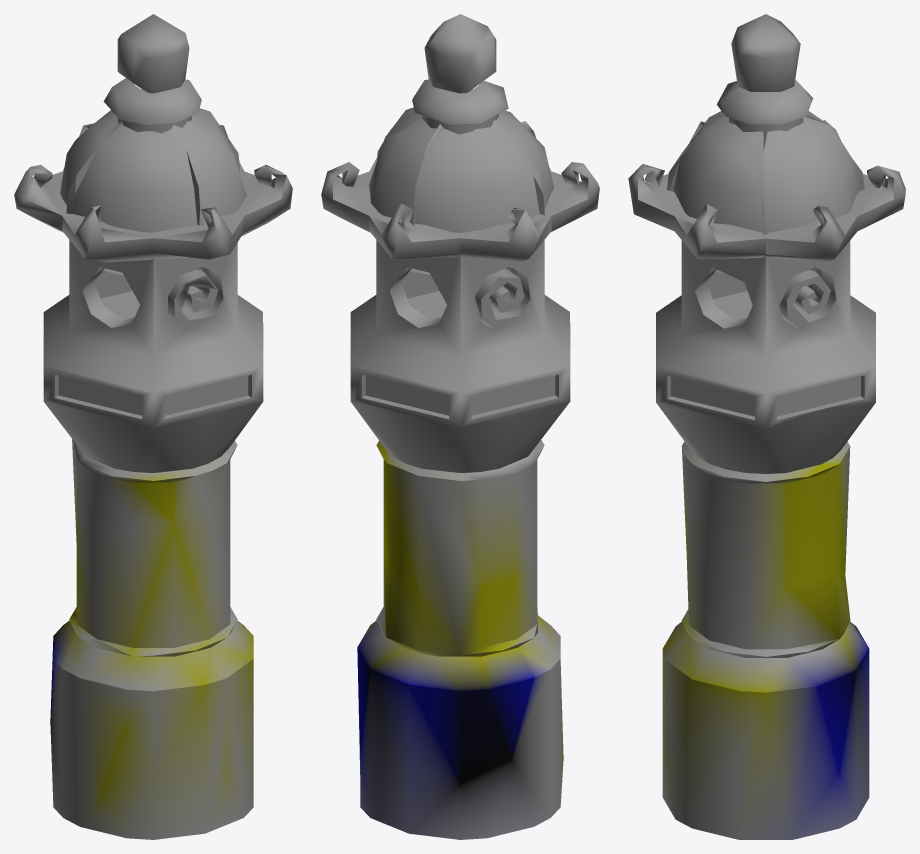
Rendered from SM_ENV_LKNVLD_GardenLantern_A_Lod3.gltf.
3 views of the same model, side by side, from view 1: azimuth 30°, elevation 25°; view 2: azimuth 150°, elevation 25°; view 3: azimuth 270°, elevation 25° (orthographic).
Visible parts, largest first — view 1: SM_ENV_LKNVLD_GardenLantern_A_Lod3; view 2: SM_ENV_LKNVLD_GardenLantern_A_Lod3; view 3: SM_ENV_LKNVLD_GardenLantern_A_Lod3.
Part boxes in pixels (x1=…): SM_ENV_LKNVLD_GardenLantern_A_Lod3: x1=14, y1=14, x2=292, y2=839; SM_ENV_LKNVLD_GardenLantern_A_Lod3: x1=321, y1=14, x2=599, y2=839; SM_ENV_LKNVLD_GardenLantern_A_Lod3: x1=628, y1=14, x2=905, y2=839.
Size of the model in its own units: 1.39 by 4.73 by 1.52.
